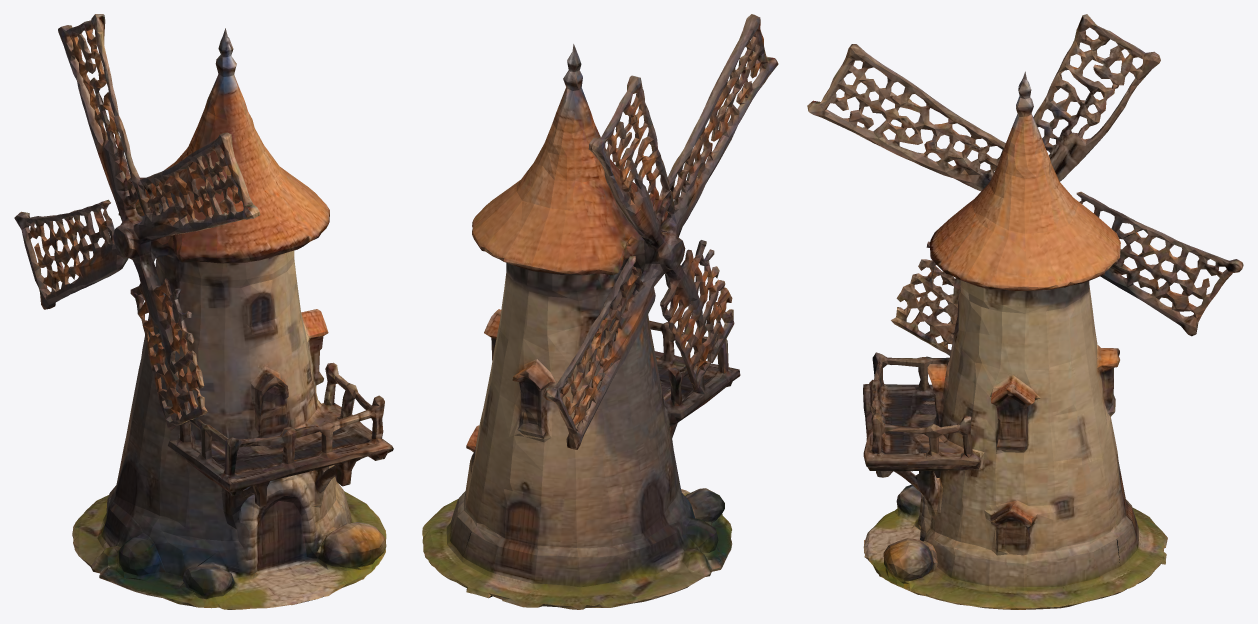
The model's file is windmill_lod0.glb.
3 views of the same model, side by side, from view 1: azimuth 30°, elevation 25°; view 2: azimuth 150°, elevation 25°; view 3: azimuth 270°, elevation 25° (orthographic). The views are drawn at different scales.
Visible parts, largest first — view 1: windmill_lod0; view 2: windmill_lod0; view 3: windmill_lod0.
Boxes of the visible parts, left/top/right/bottom form: windmill_lod0: left=14, top=14, right=393, bottom=609; windmill_lod0: left=422, top=14, right=778, bottom=609; windmill_lod0: left=807, top=14, right=1243, bottom=609.
Bounding box in the file's own units: 4.87 × 8.97 × 7.16.
1 material, 1 textured.
